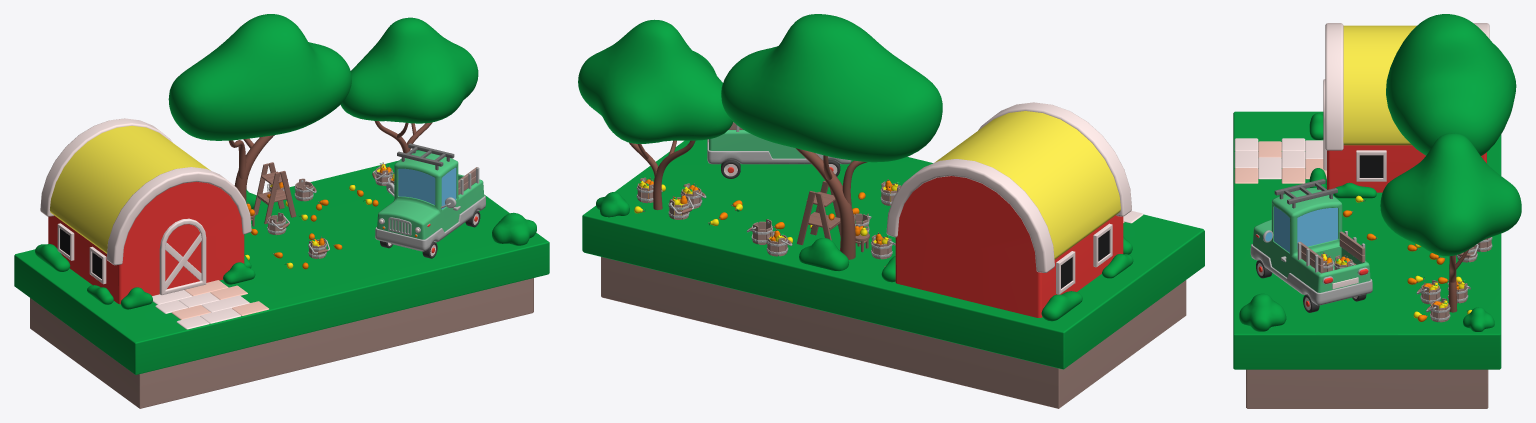
File: Farm_Island_13.glb
The picture shows the model from 3 angles, left to right: view 1: azimuth 30°, elevation 25°; view 2: azimuth 150°, elevation 25°; view 3: azimuth 270°, elevation 25°; orthographic projection. The views are drawn at different scales.
Parts seen in each view (by area): view 1: Farm_13_Base_1, Farm_13_Small_Barn_1, Farm_13_Tree_2, Farm_13_Tree_1, Farm_13_Truck_1, Farm_13_Ladder_1, Farm_13_Bush_1, Farm_13_Path_4, Farm_13_Path_2, Farm_13_Path_3, Farm_13_Path_1, Farm_13_Bush_3 (+2 smaller); view 2: Farm_13_Base_1, Farm_13_Small_Barn_1, Farm_13_Tree_2, Farm_13_Tree_1, Farm_13_Truck_1, Farm_13_Ladder_1, Farm_13_Bush_8, Farm_13_Bush_3, Farm_13_Bush_9; view 3: Farm_13_Base_1, Farm_13_Tree_2, Farm_13_Small_Barn_1, Farm_13_Tree_1, Farm_13_Truck_1, Farm_13_Bush_1, Farm_13_Path_2, Farm_13_Path_4, Farm_13_Path_3, Farm_13_Path_1, Farm_13_Bush_9, Farm_13_Bush_5 (+4 smaller).
Part boxes in pixels (box(x1,y1,x2,y2)): Farm_13_Base_1: box(14, 160, 549, 408); Farm_13_Small_Barn_1: box(40, 118, 251, 304); Farm_13_Tree_2: box(168, 14, 351, 202); Farm_13_Tree_1: box(340, 17, 478, 153); Farm_13_Truck_1: box(375, 143, 485, 258); Farm_13_Ladder_1: box(253, 162, 296, 224); Farm_13_Bush_1: box(492, 212, 536, 245); Farm_13_Path_4: box(177, 301, 268, 329); Farm_13_Path_2: box(155, 285, 247, 313); Farm_13_Path_3: box(172, 295, 249, 319); Farm_13_Path_1: box(152, 280, 228, 304); Farm_13_Bush_3: box(35, 244, 70, 271); Farm_13_Base_1: box(582, 139, 1204, 408); Farm_13_Small_Barn_1: box(886, 102, 1131, 317); Farm_13_Tree_2: box(721, 14, 942, 259); Farm_13_Tree_1: box(578, 19, 733, 210); Farm_13_Truck_1: box(707, 122, 851, 178); Farm_13_Ladder_1: box(797, 181, 840, 245); Farm_13_Bush_8: box(799, 238, 849, 270); Farm_13_Bush_3: box(1041, 291, 1082, 321); Farm_13_Bush_9: box(596, 192, 629, 217); Farm_13_Base_1: box(1233, 111, 1501, 408); Farm_13_Tree_2: box(1386, 14, 1516, 155); Farm_13_Small_Barn_1: box(1323, 23, 1489, 192); Farm_13_Tree_1: box(1380, 133, 1521, 312); Farm_13_Truck_1: box(1250, 179, 1372, 312); Farm_13_Bush_1: box(1239, 293, 1286, 331); Farm_13_Path_2: box(1281, 138, 1305, 183); Farm_13_Path_4: box(1234, 138, 1258, 183); Farm_13_Path_3: box(1258, 141, 1281, 179); Farm_13_Path_1: box(1305, 140, 1326, 179); Farm_13_Bush_9: box(1463, 307, 1494, 331); Farm_13_Bush_5: box(1333, 182, 1376, 198).
Size of the model in its own units: 15.93 by 9.36 by 8.26.
Materials: 55 (55 with a texture image).
